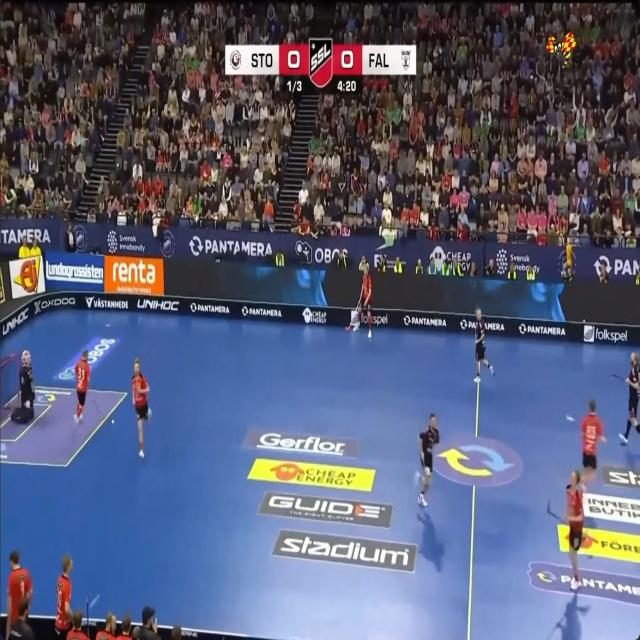Balls: (111, 418, 114, 422)
player: (6, 550, 32, 637), (565, 471, 584, 590), (582, 399, 606, 483), (418, 412, 439, 506), (132, 358, 151, 458), (620, 353, 640, 444), (55, 555, 72, 639), (475, 309, 494, 382), (75, 350, 90, 422), (359, 263, 372, 337), (67, 610, 88, 639)
stick: (546, 613, 566, 639), (547, 499, 563, 521), (91, 396, 101, 414), (86, 596, 90, 637), (612, 373, 626, 380), (356, 296, 361, 309), (345, 322, 353, 330), (582, 529, 587, 539), (587, 554, 592, 558), (359, 290, 362, 295)
